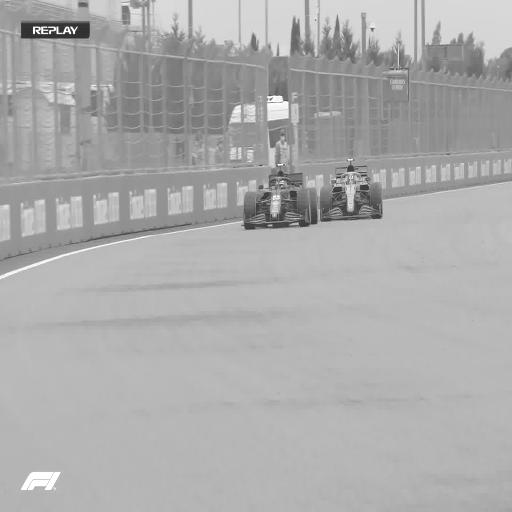f1_car: (243, 171, 317, 229), (320, 159, 382, 220)
